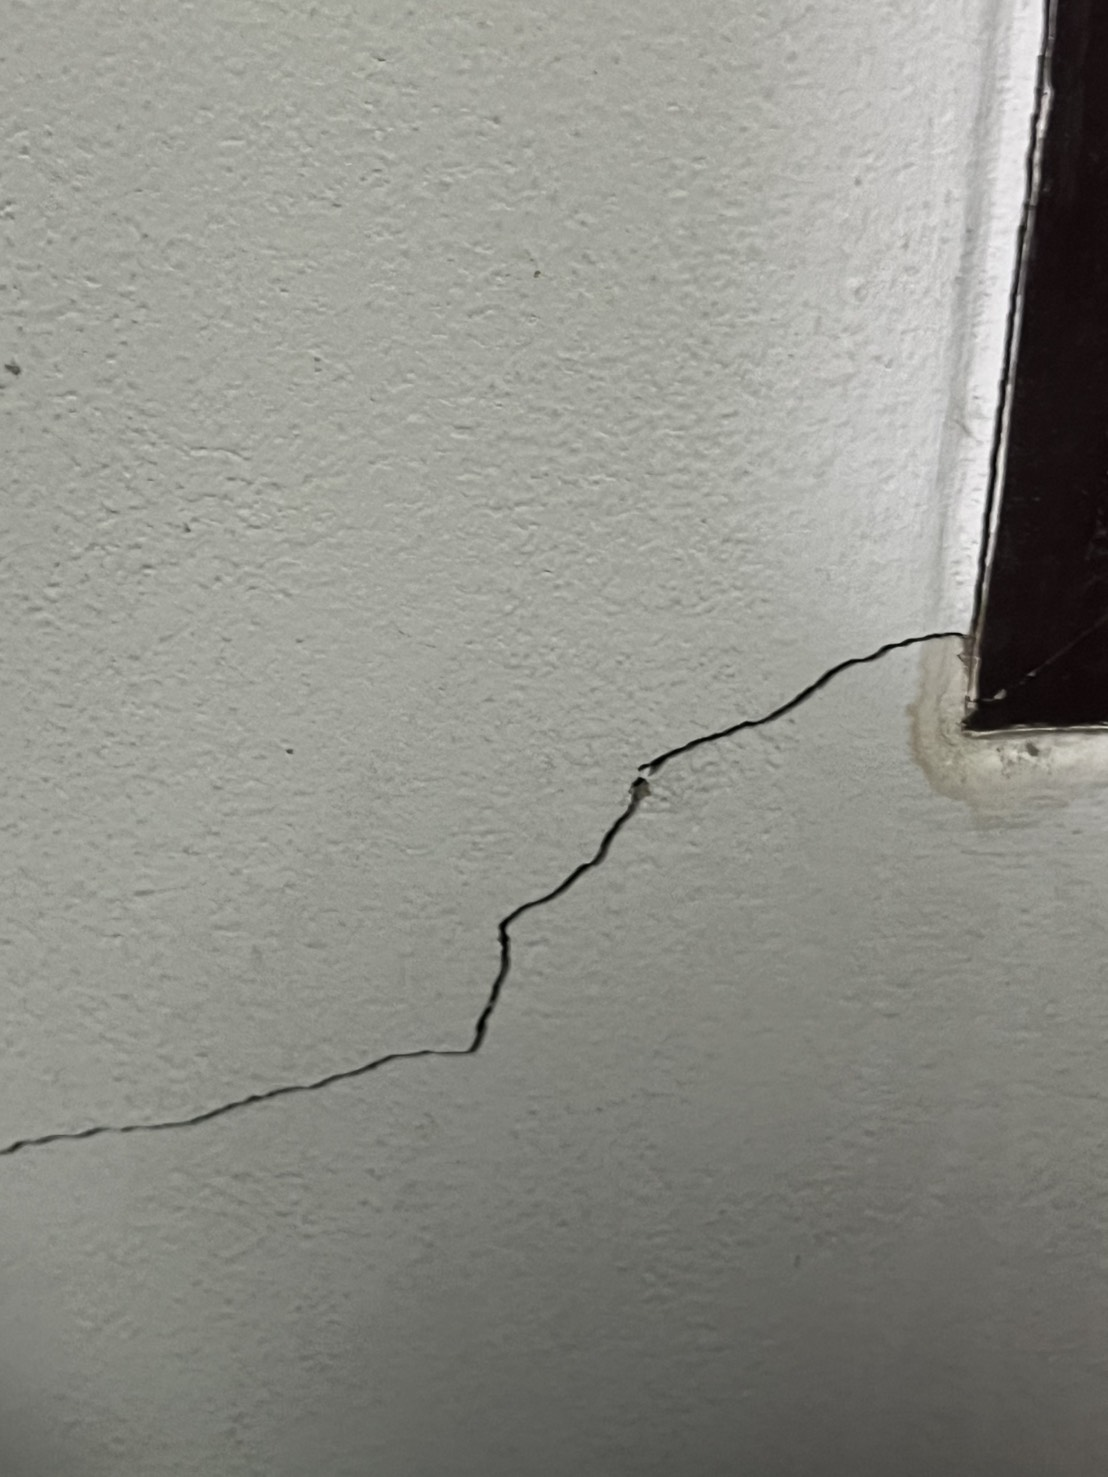Low: (2, 606, 976, 1193)
